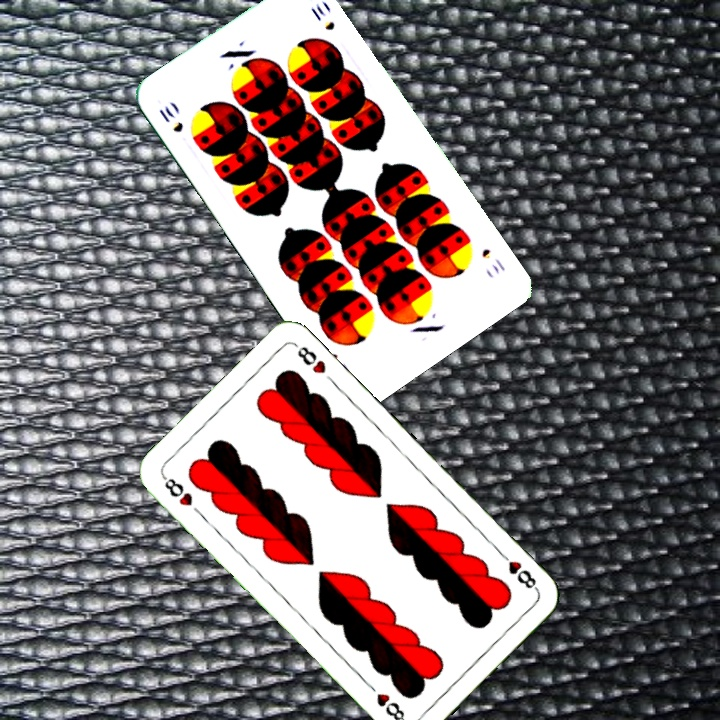H8: (494, 547, 541, 594), (158, 472, 195, 509)
S10: (155, 101, 186, 135), (477, 244, 508, 277)
